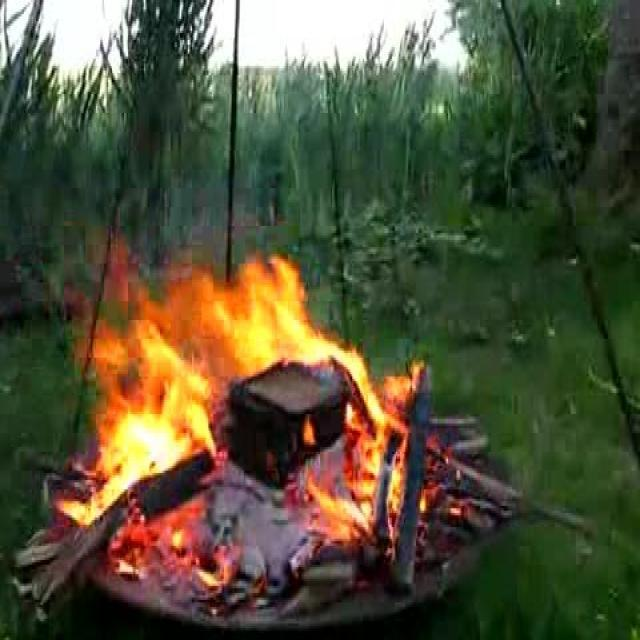Fire: (109, 206, 422, 523)
